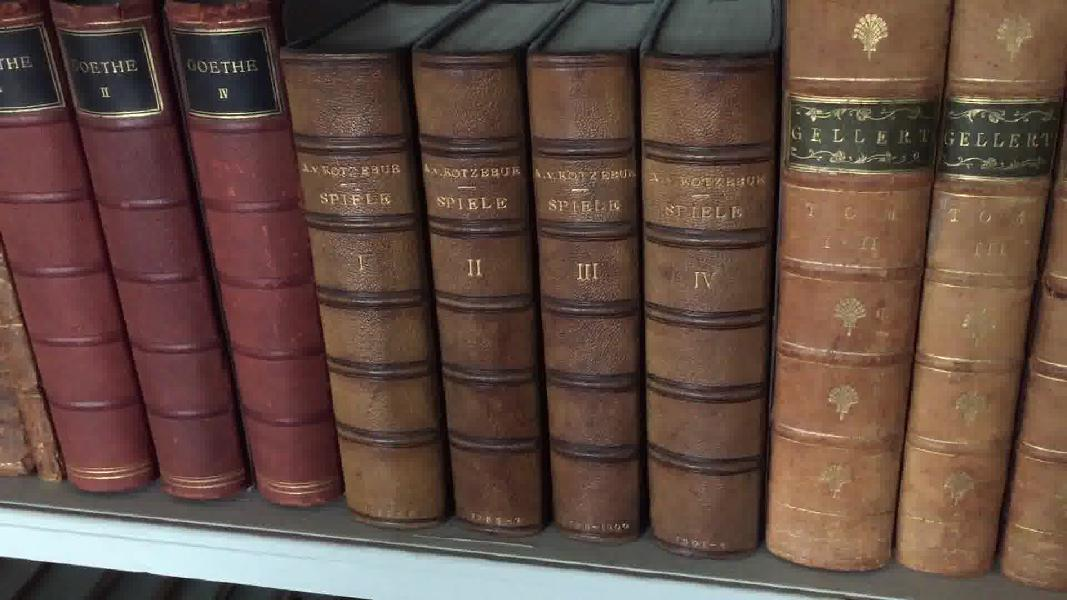Aa6-11_13: (8, 9, 335, 517)
Aa6-14_17: (279, 34, 804, 571)
